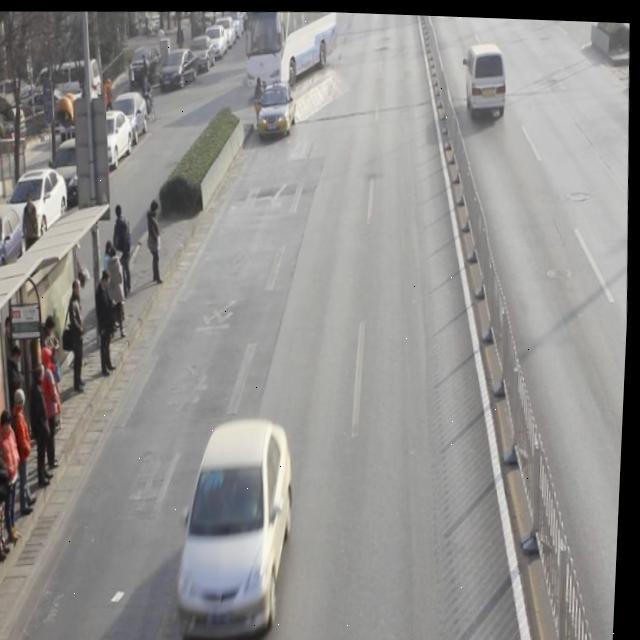car: (176, 409, 306, 640), (256, 77, 299, 136)
truck: (463, 37, 510, 116)
van: (240, 7, 337, 88)
